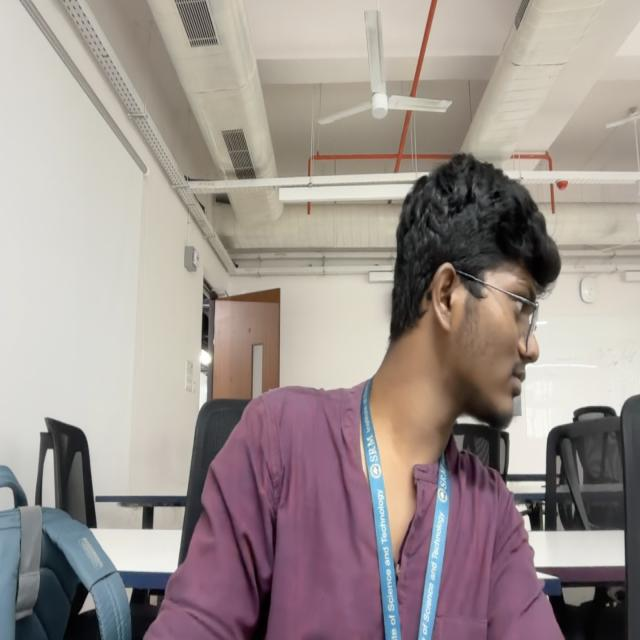ravindra: (390, 148, 561, 432)
